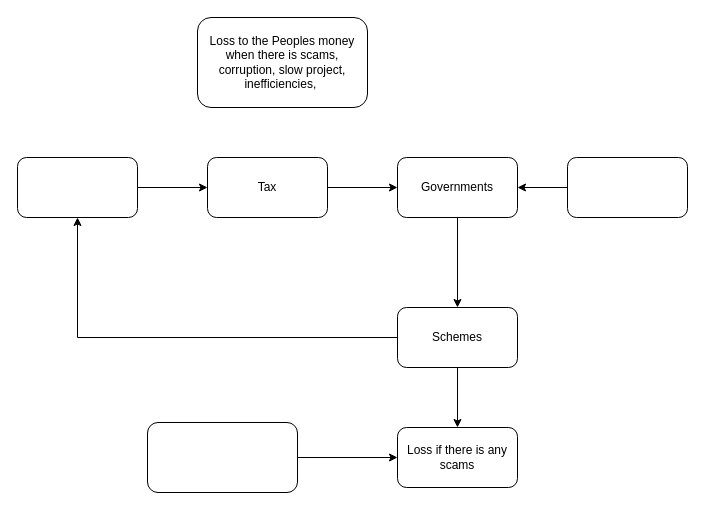
This 705x510 diagram has some shape labels left out. The centre of each missing label's shape, as x and y in pixels:
"Constructive discussion of the same" goes at point (222, 457).
"Loans" goes at point (627, 187).
"People" goes at point (77, 187).
